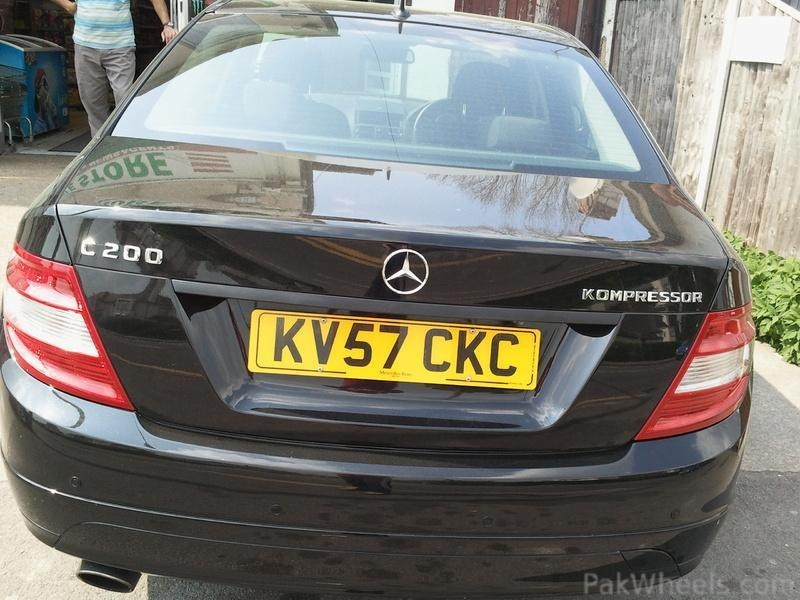number_plate: (251, 308, 542, 385)
